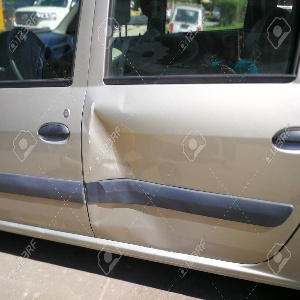door: (84, 101, 141, 232)
